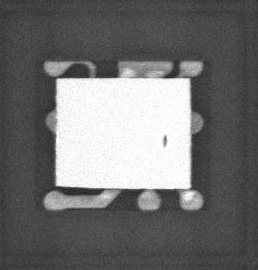DIE_INK: (154, 139, 161, 154)
